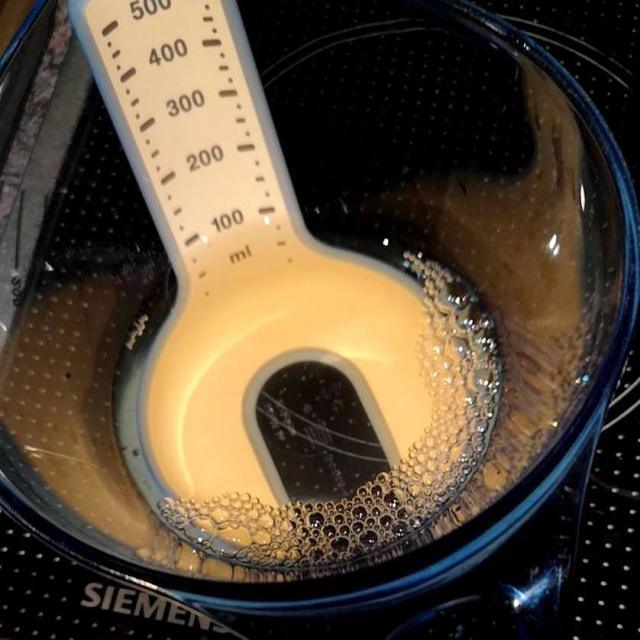juice: (57, 229, 498, 576)
